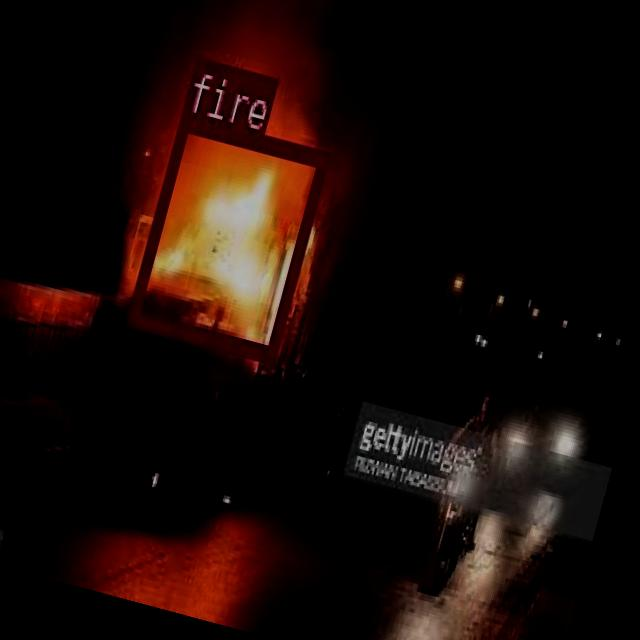fire: (126, 110, 330, 360)
